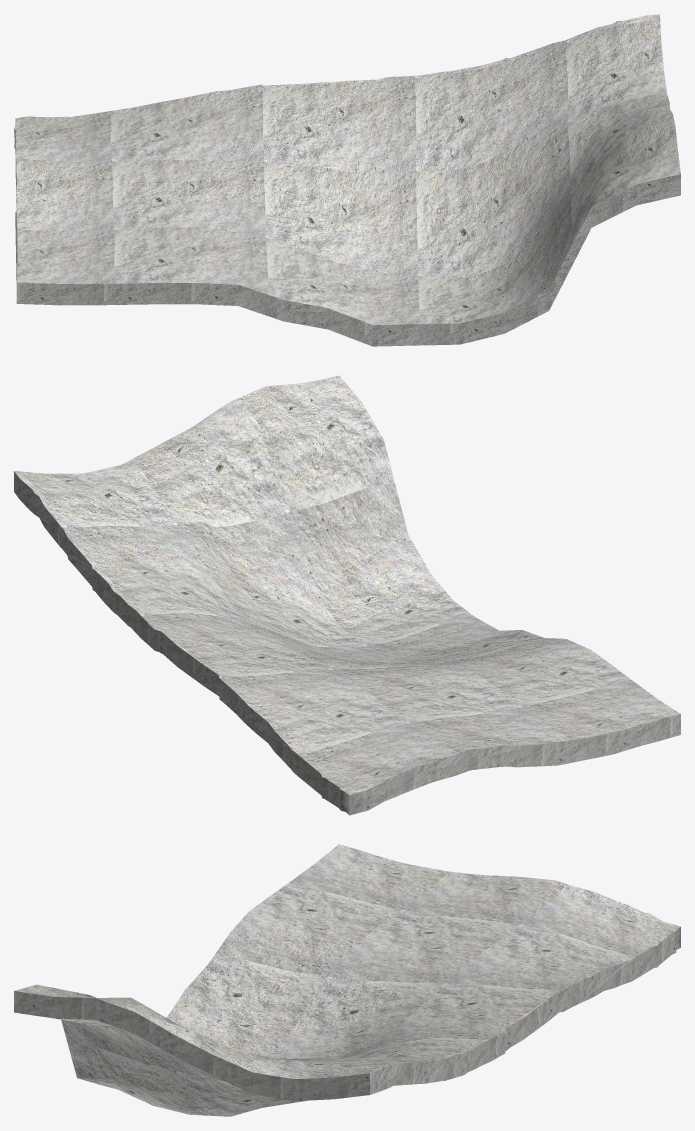
3 renders of one model, top to bottom at view 1: azimuth 30°, elevation 25°; view 2: azimuth 150°, elevation 25°; view 3: azimuth 270°, elevation 25°, orthographic. The views are drawn at different scales.
Visible parts, largest first — view 1: P; view 2: P; view 3: P.
Boxes of the visible parts, bbox=[...] form: P: bbox=[14, 14, 680, 346]; P: bbox=[14, 375, 680, 815]; P: bbox=[14, 844, 680, 1116].
Bounding box in the file's own units: 1718 × 465 × 1480.
1 material, 1 textured.
